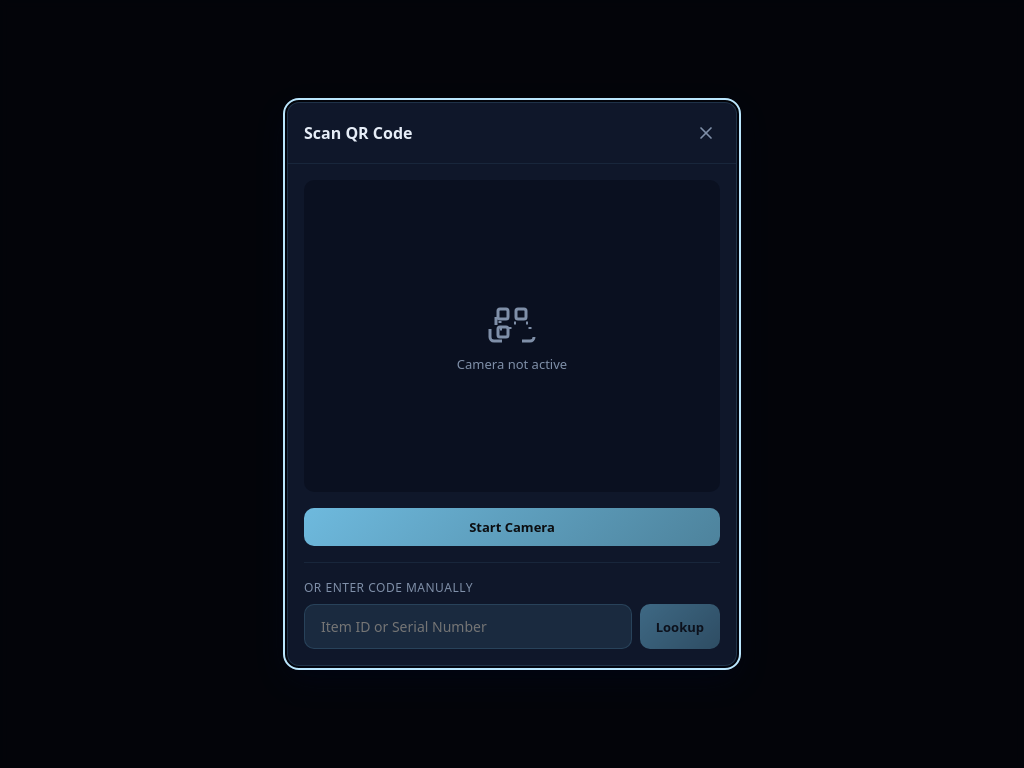
Test: QRScannerModal manual lookup › finds an item by id (case-insensitive) and shows the found card
Type "ca1001" into the field labelled "Or enter code manually" at (468, 626), box [304, 604, 632, 649]
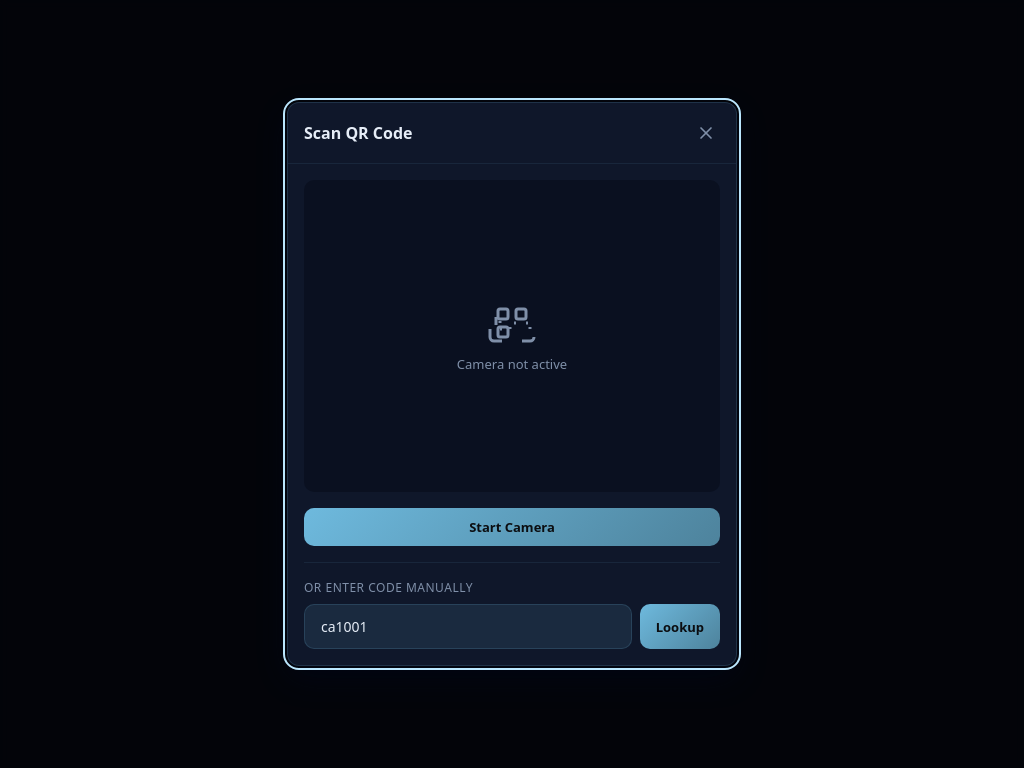
Click the button "Lookup" at (680, 626), box [640, 604, 720, 649]
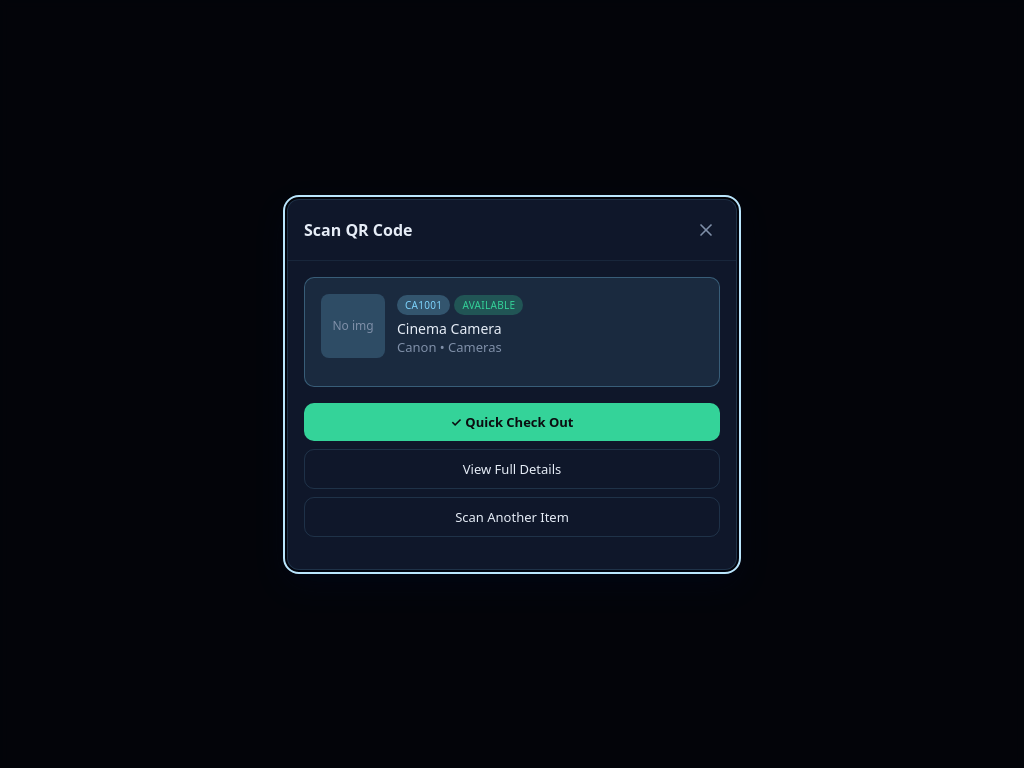
Check: the text "Cinema Camera" is shown, box [397, 319, 502, 338]
Check: the text "CA1001" is shown, box [397, 295, 450, 315]
Check: the button "View Full Details" is shown, box [304, 448, 720, 488]
